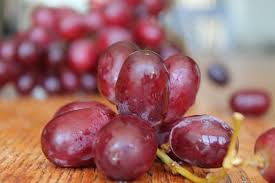Red Grapes: (53, 44, 237, 183)
